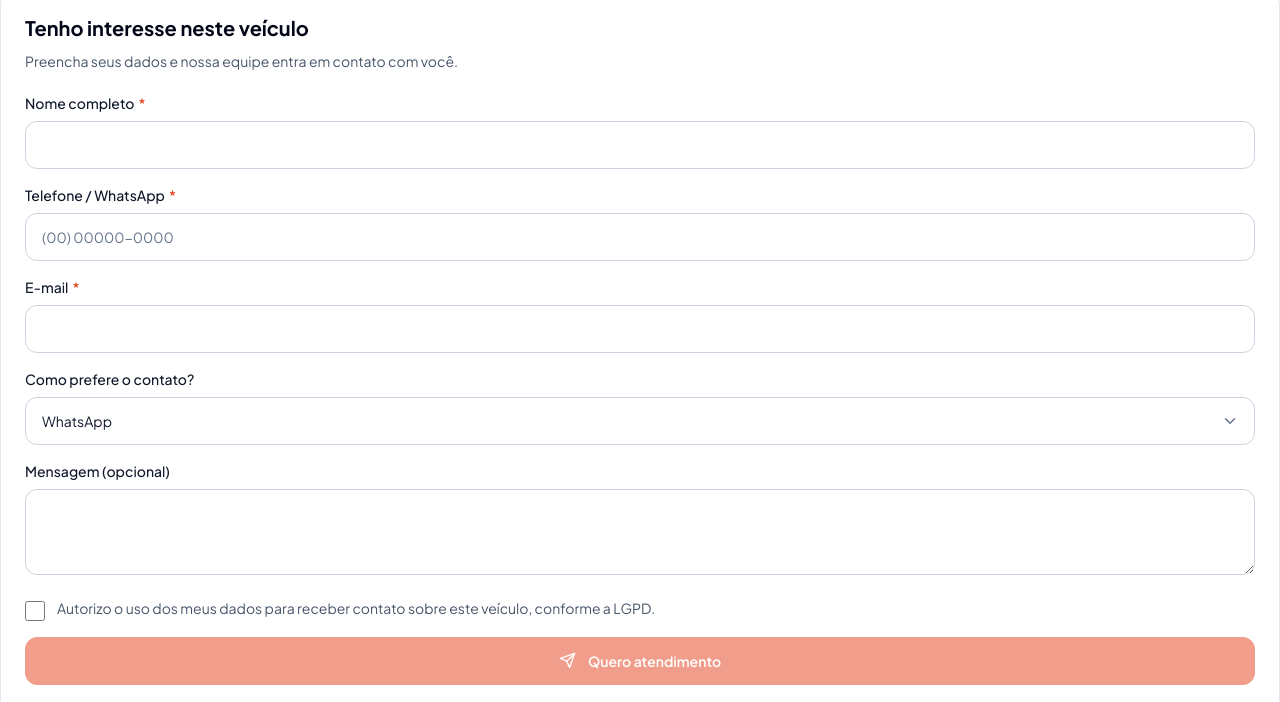
Scenario: preserva os dados após erro e permite nova tentativa
Step 1. Type "  Maria Silva  " into the field labelled "Nome completo" → (640,145), box [25,121,1255,169]
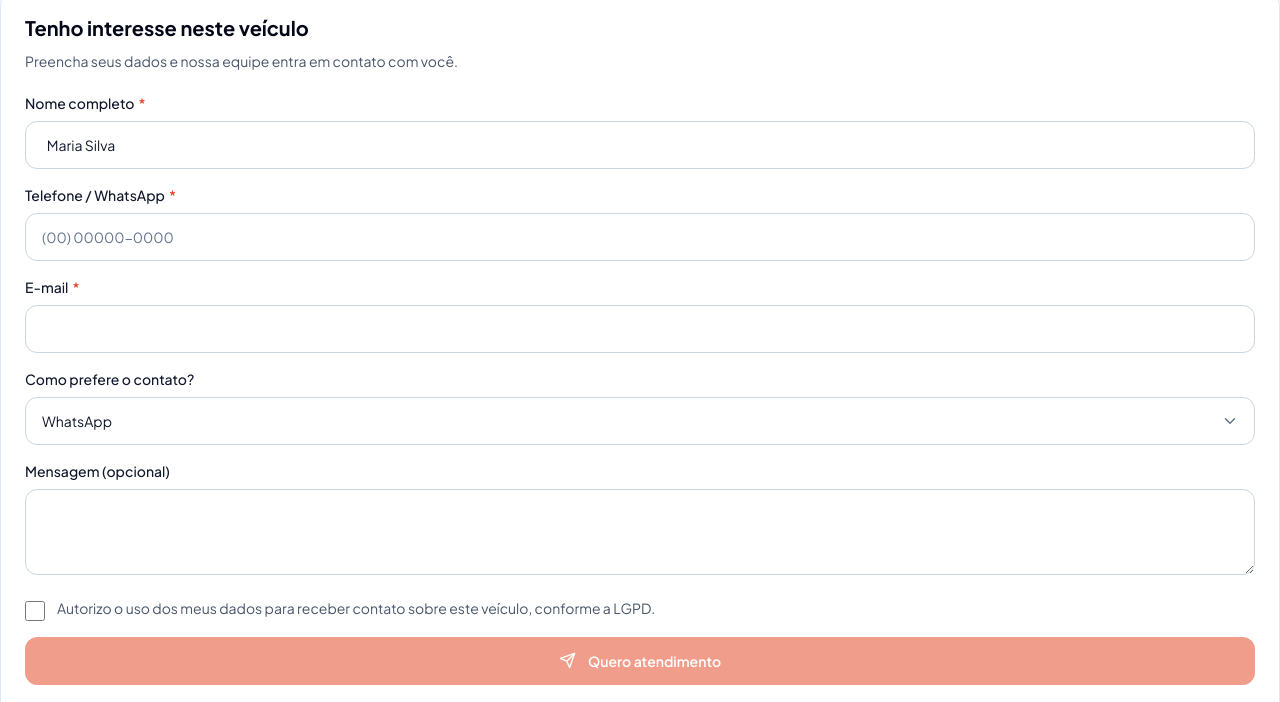
Step 2. Type "11987654321" into the field labelled "Telefone / WhatsApp" → (640,237), box [25,213,1255,261]
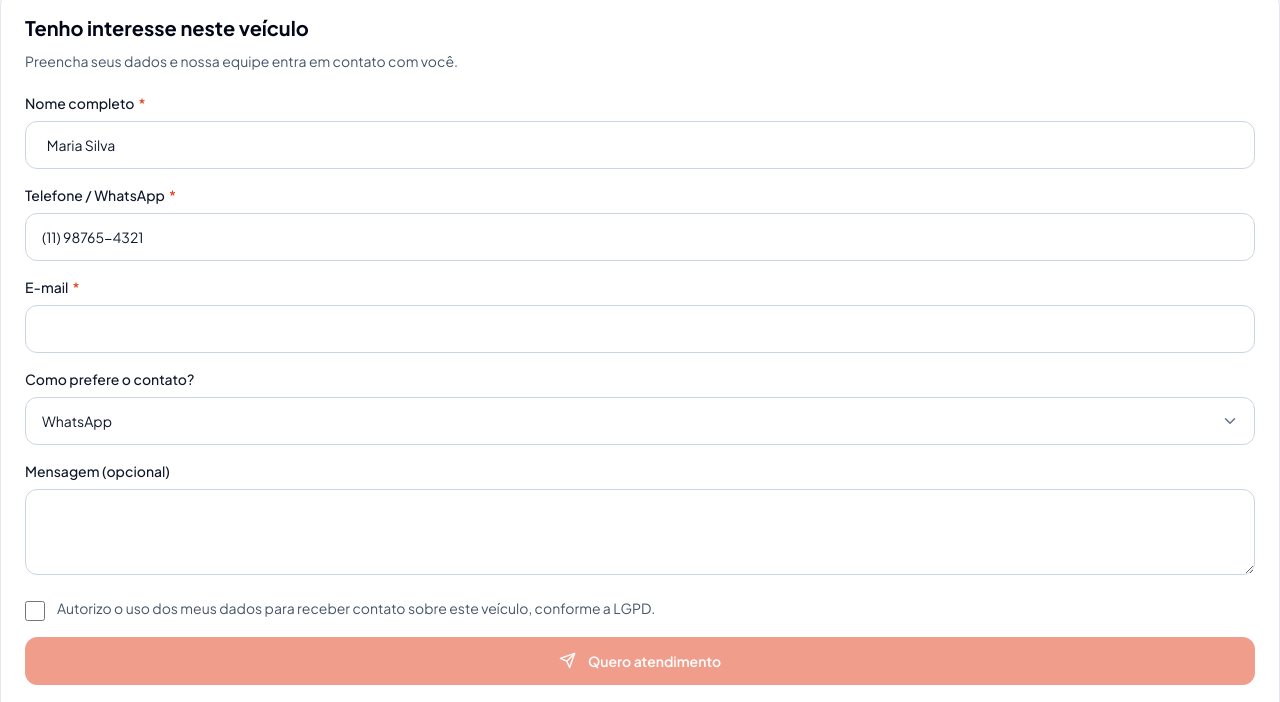
Step 3. Type "maria@example.com" into the field labelled "E-mail" → (640,329), box [25,305,1255,353]
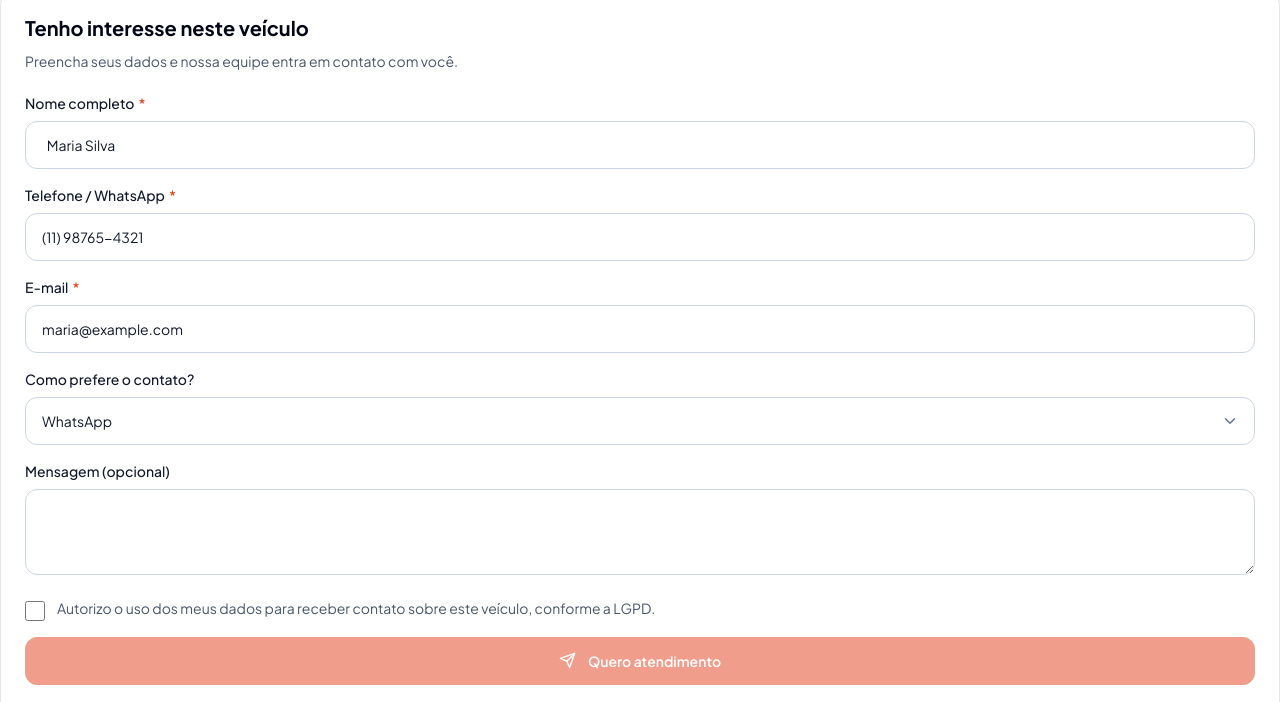
Step 4. Click the checkbox → (35,611), box [25,601,45,621]
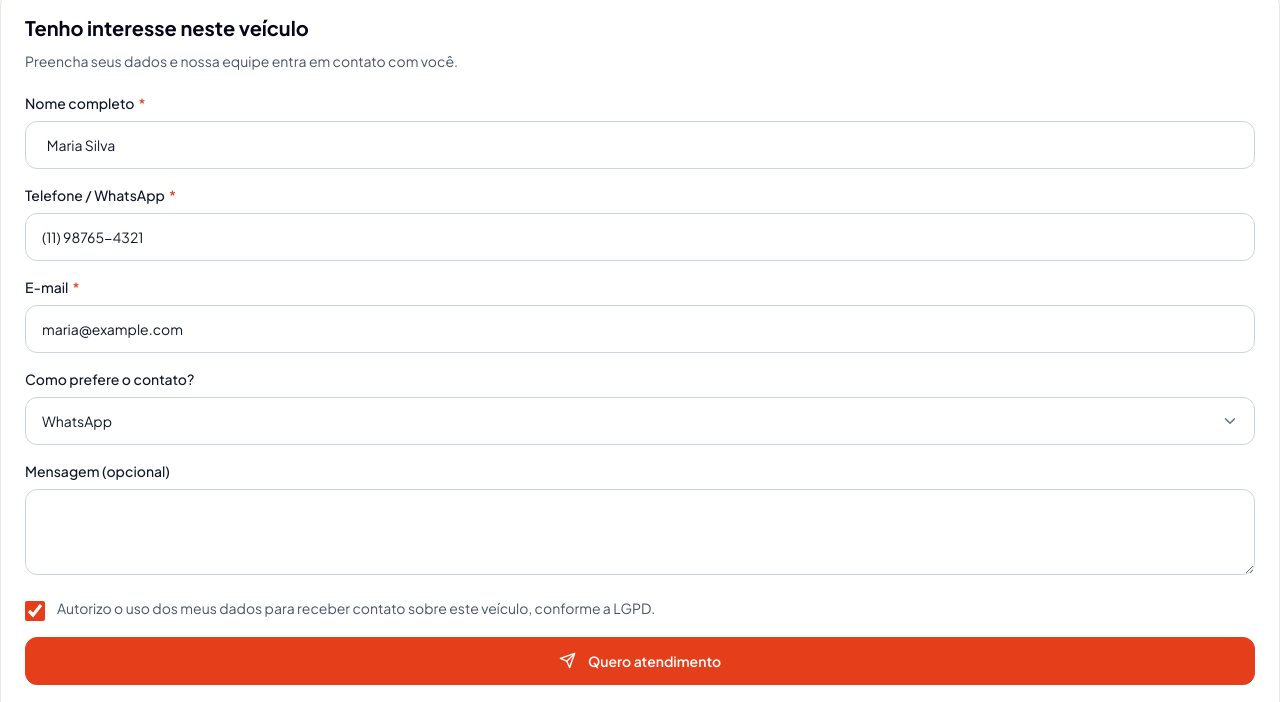
Step 5. Click the button "Quero atendimento" → (640,661), box [25,637,1255,685]
(page scrolled)
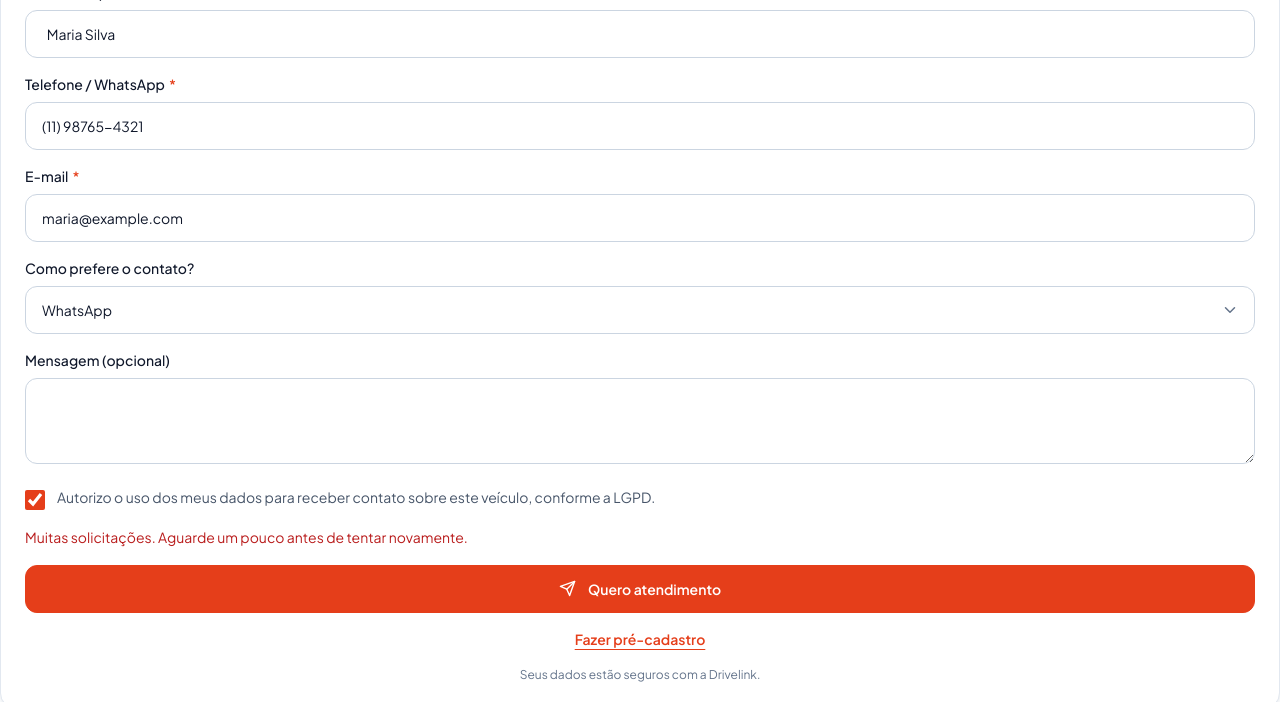
Expected: the message shows "Muitas solicitações", [25,528,468,546]
Step 6. Click the button "Quero atendimento" → (640,588), box [25,564,1255,612]
(page scrolled)
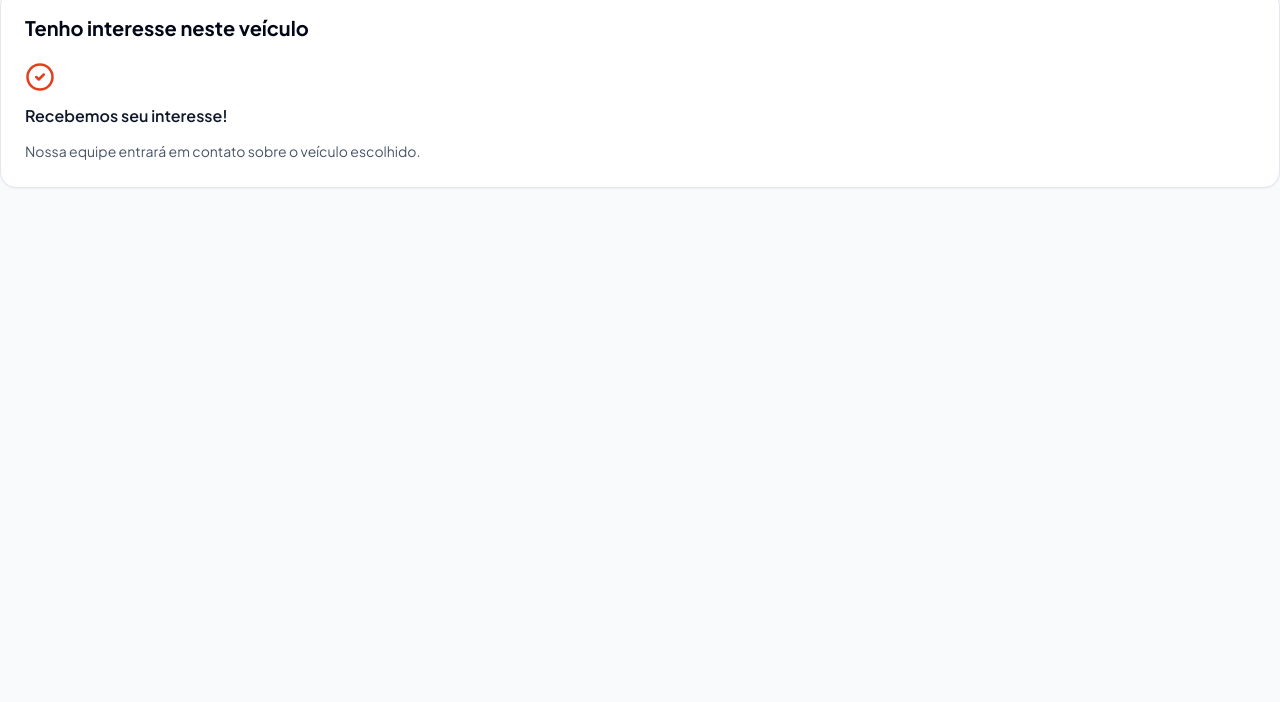
Expected: the text "Recebemos seu interesse!" is shown, [25,105,228,126]
